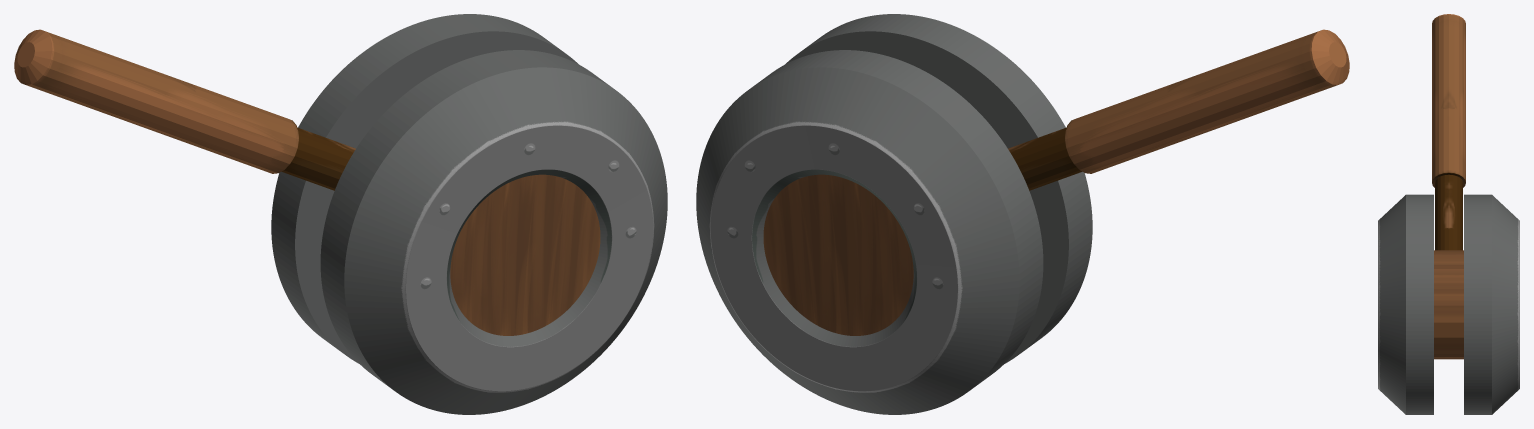
Rendered from lever.fbx.
3 renders of one model, left to right at view 1: azimuth 30°, elevation 25°; view 2: azimuth 150°, elevation 25°; view 3: azimuth 270°, elevation 25°, orthographic. The views are drawn at different scales.
Parts seen in each view (by area): view 1: leverBase, handle; view 2: leverBase, handle; view 3: leverBase, handle.
Boxes of the visible parts, bbox=[...] form: leverBase: bbox=[271, 14, 667, 414]; handle: bbox=[14, 29, 600, 335]; leverBase: bbox=[696, 14, 1092, 414]; handle: bbox=[763, 29, 1349, 335]; leverBase: bbox=[1378, 194, 1519, 414]; handle: bbox=[1432, 14, 1465, 359].
Bounding box in the file's own units: 279 × 199 × 94.94.
Materials: 2 (2 with a texture image).
